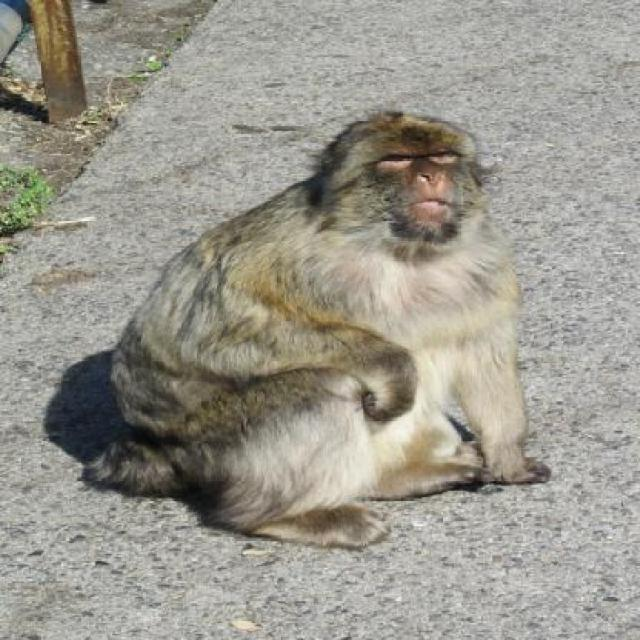Monkey: (41, 102, 512, 550)
